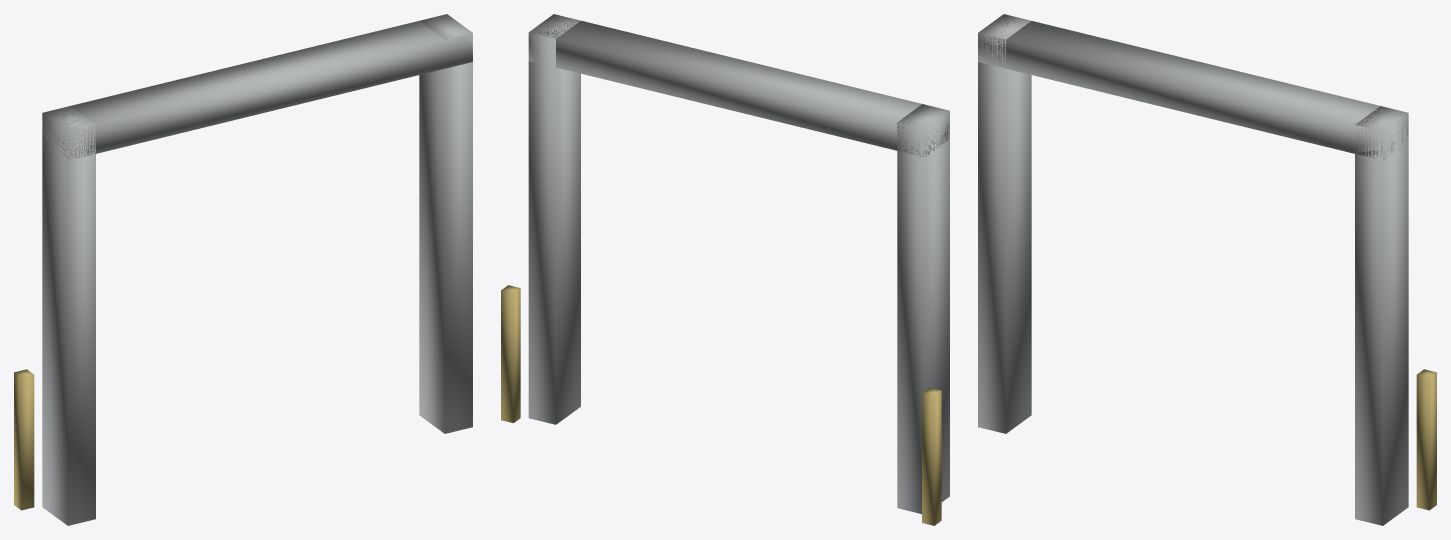
The model's file is elevator_shaft_industrial_w220_h220_d28.glb.
3 views of the same model, side by side, from view 1: azimuth 30°, elevation 25°; view 2: azimuth 150°, elevation 25°; view 3: azimuth 330°, elevation 25° (orthographic). The views are drawn at different scales.
Visible parts, largest first — view 1: world; view 2: world; view 3: world.
Part boxes in pixels (x1,y1,x2,y2): world: (14, 14, 472, 525); world: (501, 14, 949, 525); world: (978, 14, 1436, 525).
Size of the model in its own units: 2.79 by 2.38 by 0.38.
